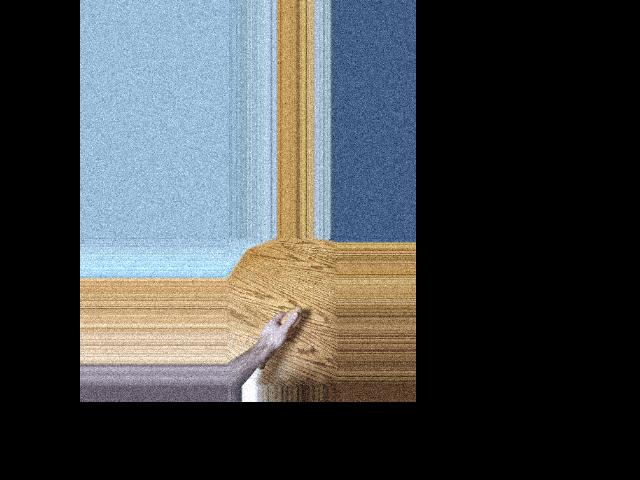sweet_potato: (258, 304, 302, 368)
